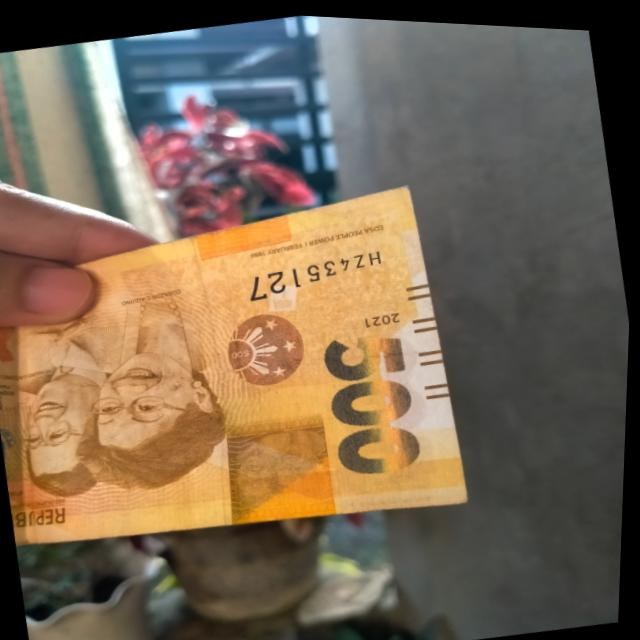concealed_value: (213, 403, 354, 530)
optically_variable_device: (202, 282, 331, 403)
value: (312, 312, 440, 483)
